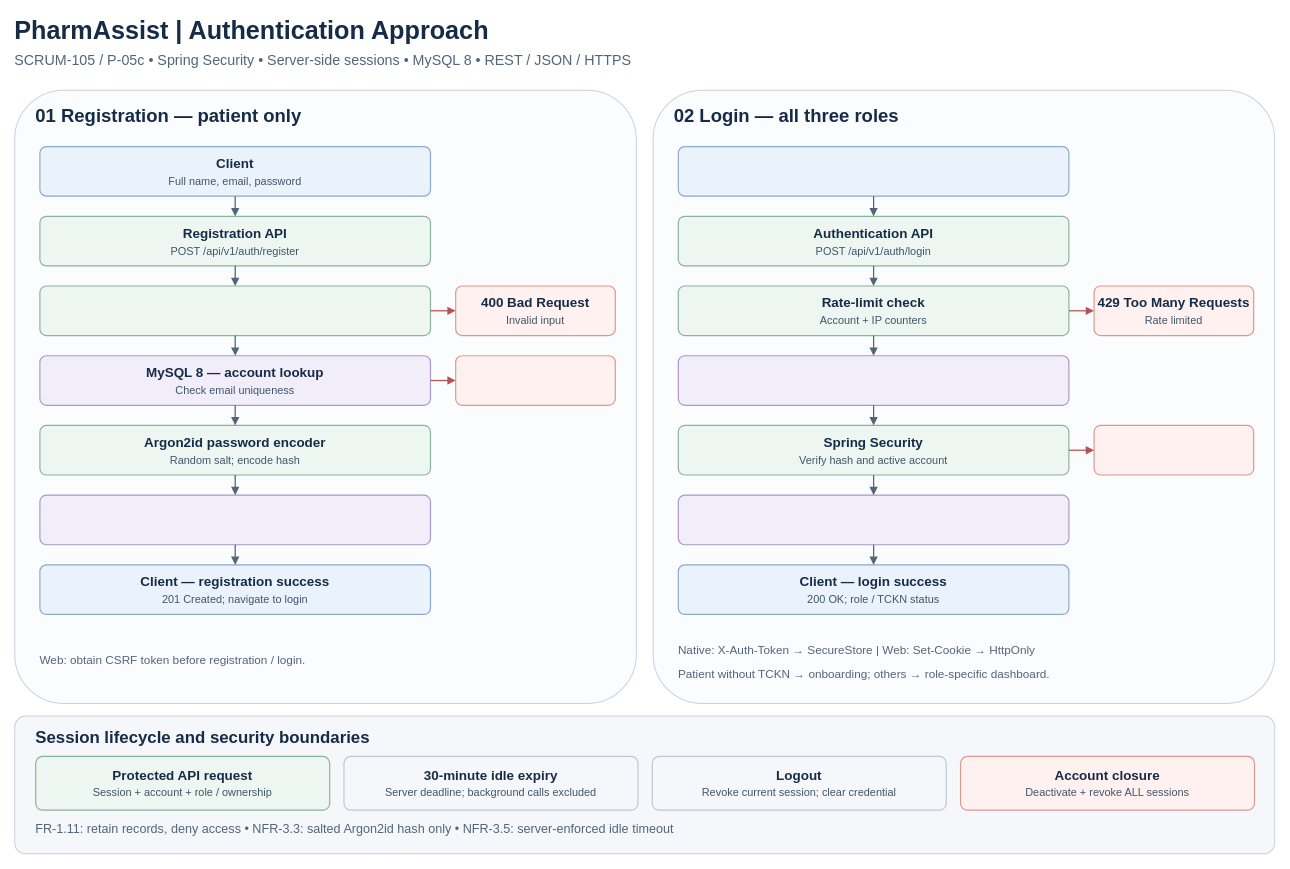
Image size: 1290x869. Some labels were removed from this diagram. Each missing label, with the centre of its shape:
"401 Unauthorized Generic login failure" goes at point 1173,449.
"409 Conflict Duplicate email" goes at point 535,380.
"Client Email and password" goes at point 873,171.
"MySQL 8 — account lookup Retrieve hash, role and account status" goes at point 873,380.
"MySQL 8 — insert account PATIENT role; TCKN not registered" goes at point 235,519.
"Spring Session JDBC → MySQL 8 Create/rotate ID; persist session" goes at point 873,519.
"Validate input and password 15–128 characters; blocklist" goes at point 235,310.
